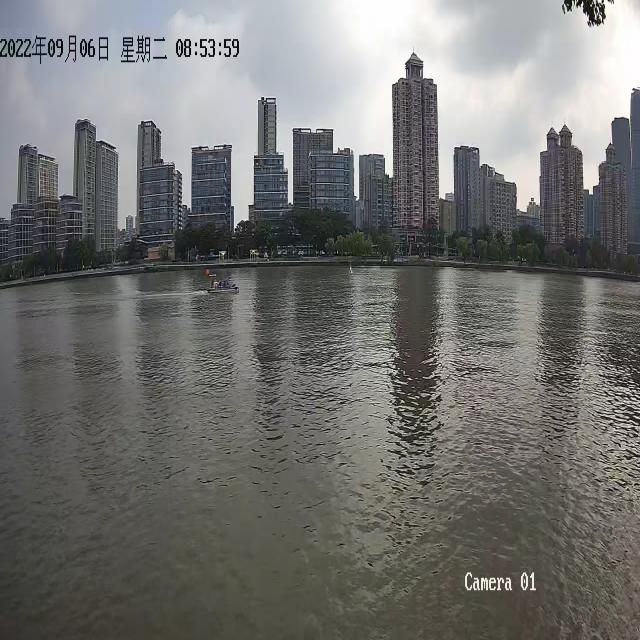ship: (206, 268, 238, 292)
